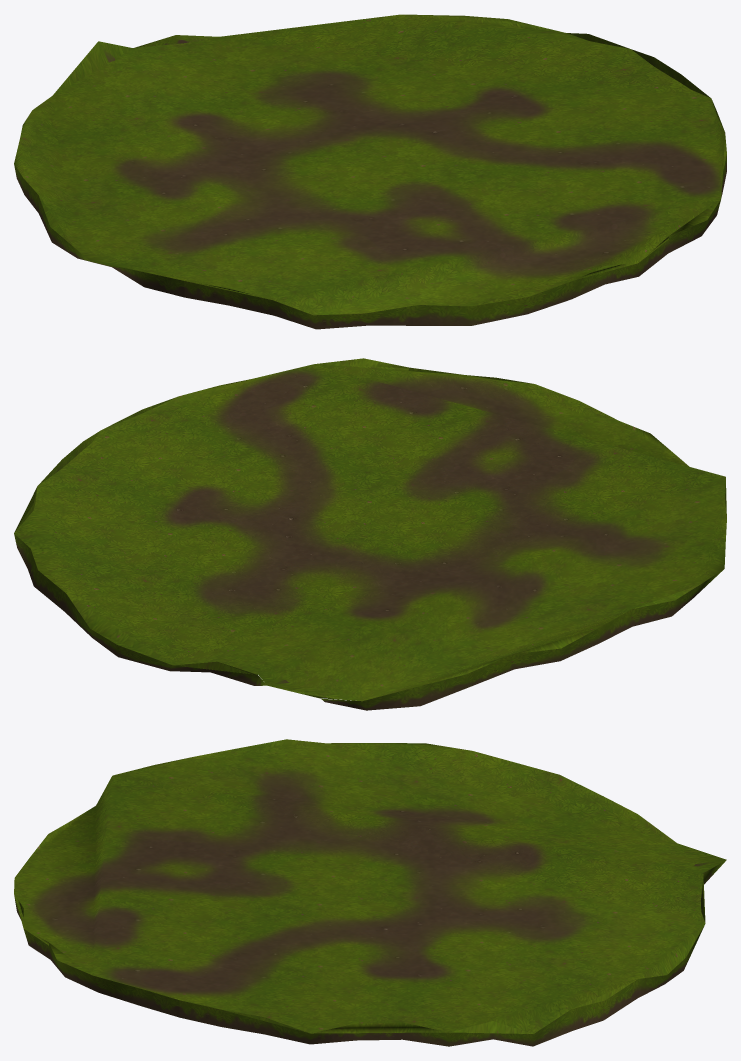
3 renders of one model, top to bottom at view 1: azimuth 30°, elevation 25°; view 2: azimuth 150°, elevation 25°; view 3: azimuth 270°, elevation 25°, orthographic. The views are drawn at different scales.
Parts seen in each view (by area): view 1: Cylinder001_Ground_0; view 2: Cylinder001_Ground_0; view 3: Cylinder001_Ground_0.
Part boxes in pixels (x1,y1,x2,y2): Cylinder001_Ground_0: [14, 14, 726, 329]; Cylinder001_Ground_0: [14, 358, 726, 710]; Cylinder001_Ground_0: [14, 739, 726, 1046].
Bounding box in the file's own units: 377 × 27.66 × 389.
1 material, 1 textured.
